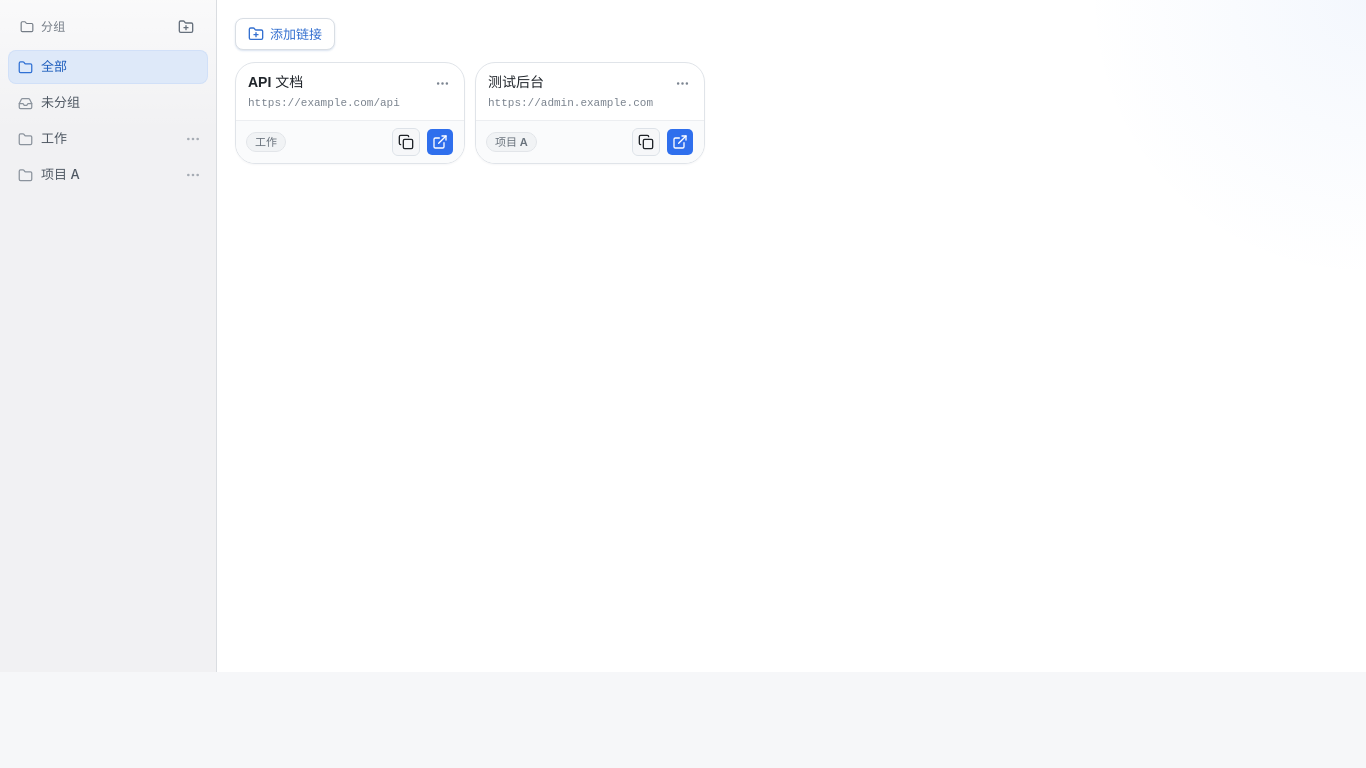
Test case: links static interactions › prefills and saves edits to an existing link
This screenshot has width=1366, height=768.
Click the button named "管理链接 API 文档": [442, 83] box x1=430 y1=71 x2=454 y2=95
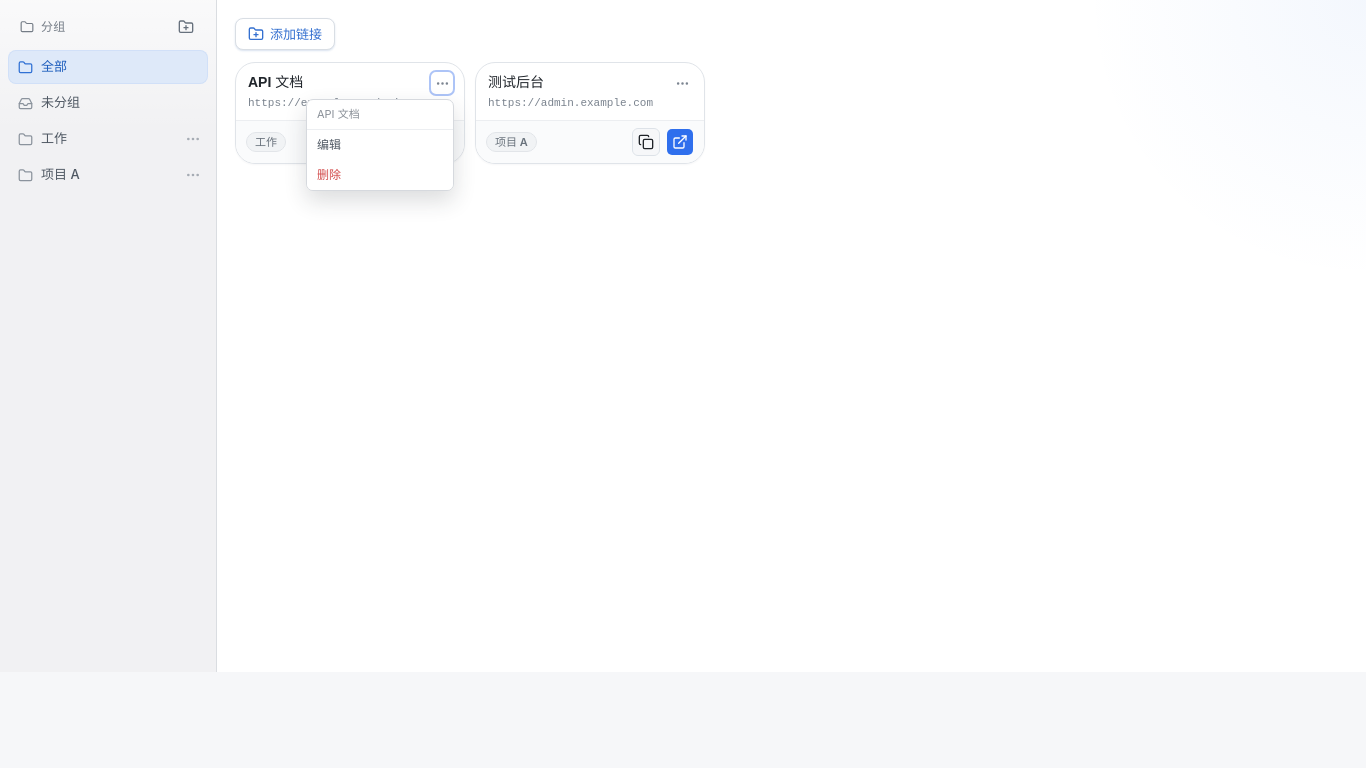
Click the button "编辑": [380, 144] box x1=307 y1=130 x2=453 y2=160
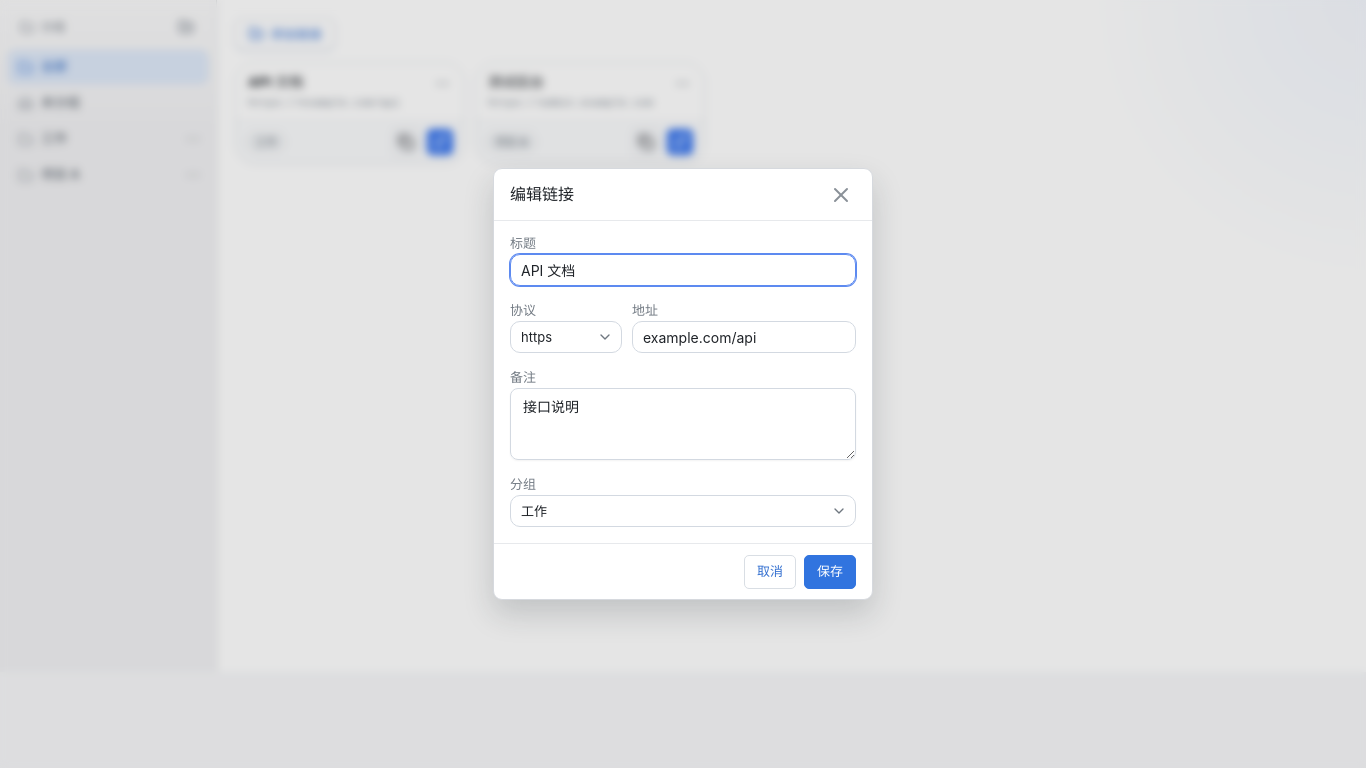
Expected: the dialog "编辑链接" is shown, x1=493 y1=168 x2=873 y2=600
Expected: the field labelled "标题" holds "API 文档"
Expected: the dropdown named "协议" reads "https", x1=510 y1=321 x2=622 y2=353
Replace the text in the field labelled "标题" with "新版 API 文档": [683, 270] box x1=510 y1=254 x2=856 y2=286
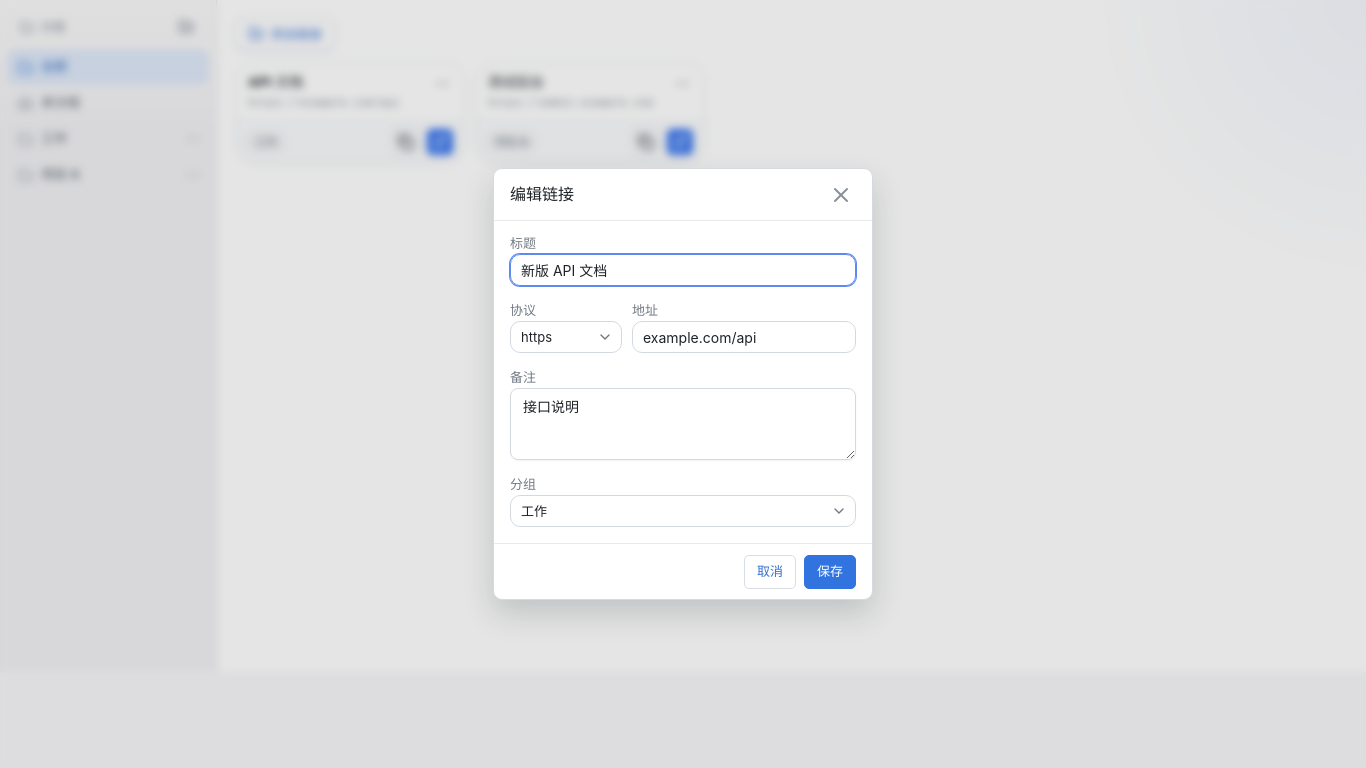
Click the button "保存": [830, 572] box x1=804 y1=554 x2=856 y2=588
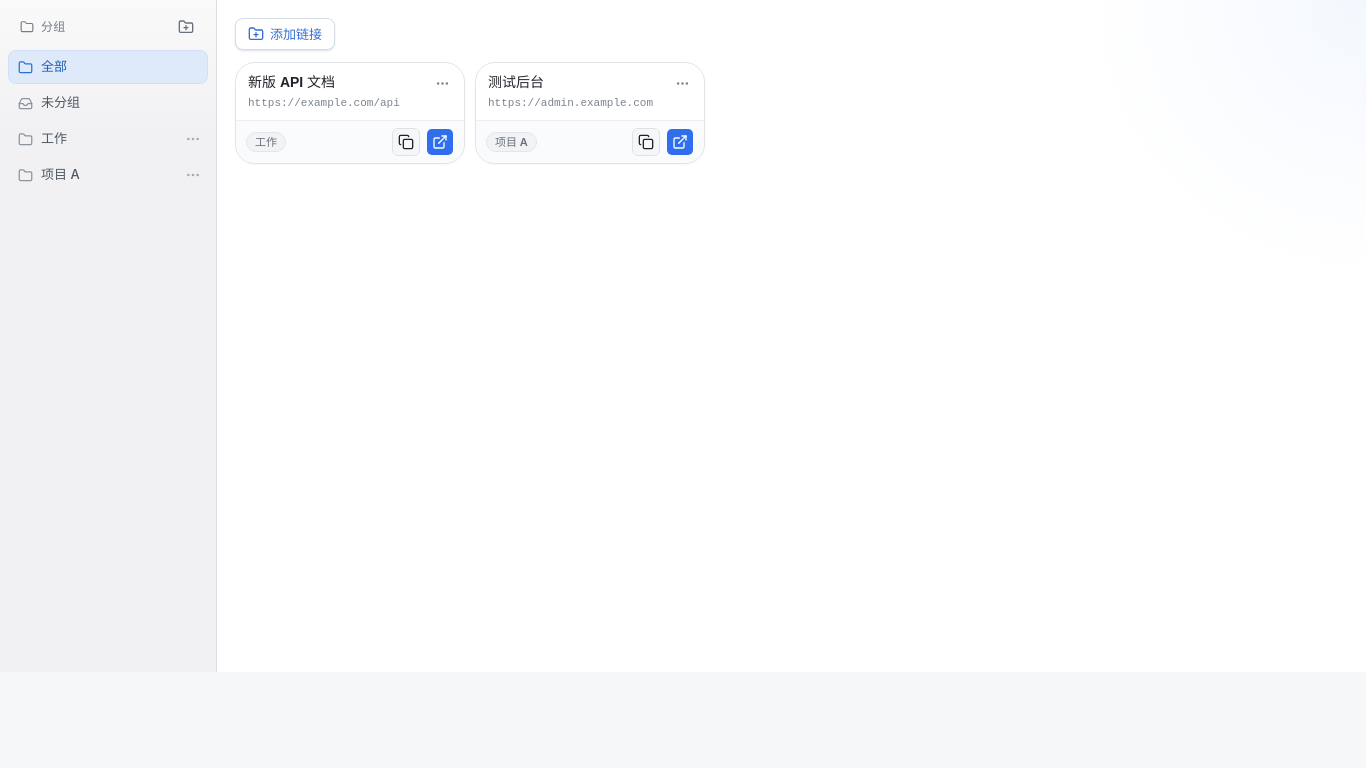
Expected: the heading "新版 API 文档" is shown, x1=248 y1=74 x2=335 y2=90
